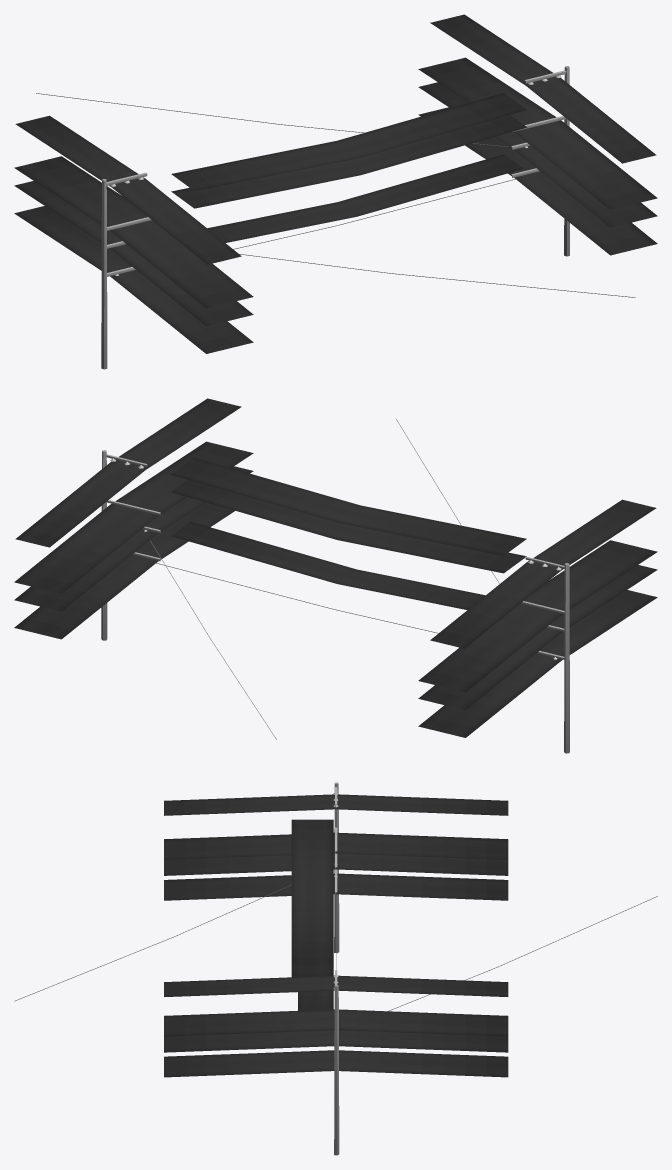
3 renders of one model, top to bottom at view 1: azimuth 30°, elevation 25°; view 2: azimuth 150°, elevation 25°; view 3: azimuth 270°, elevation 25°, orthographic. The views are drawn at different scales.
Visible parts, largest first — view 1: FRAME_ROOT; view 2: FRAME_ROOT; view 3: FRAME_ROOT.
Part boxes in pixels (<box>): FRAME_ROOT: <box>14,14,657,369</box>; FRAME_ROOT: <box>14,398,657,753</box>; FRAME_ROOT: <box>14,782,657,1155</box>.
Bounding box in the file's own units: 84.31 × 32.42 × 112.
Materials: 2 (1 with a texture image).
